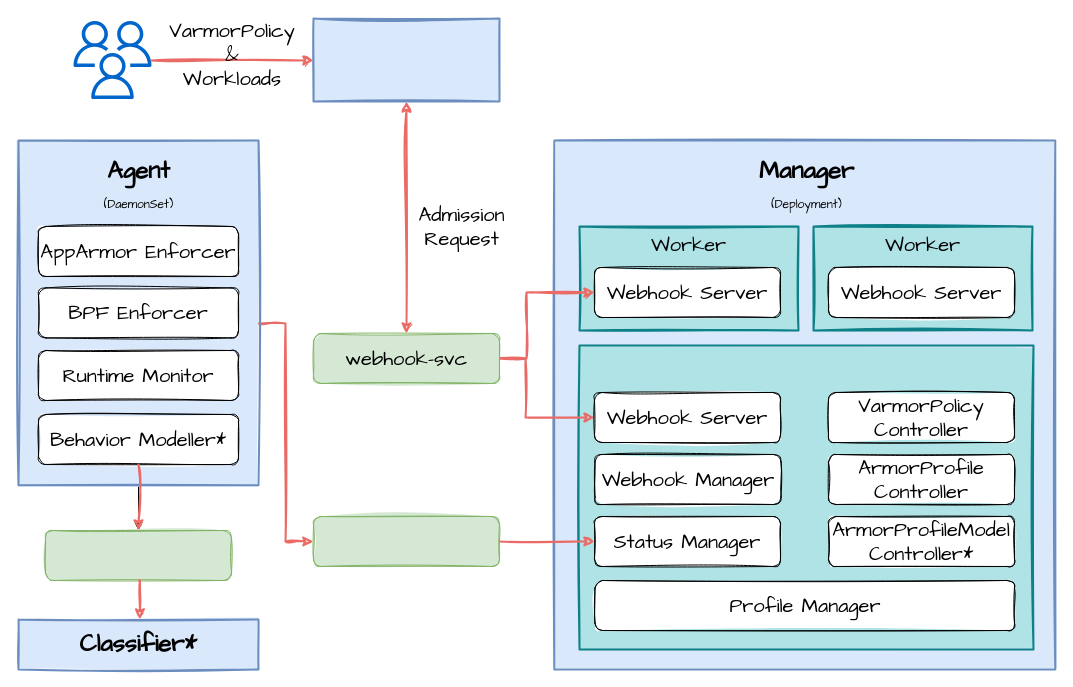
Some shapes in this 1073 by 687 pixel diagram are drawn without their labels. Each missing label, with the box of its shape:
API Server: (312, 17, 500, 102)
classifier-svc*: (44, 530, 232, 580)
Leader: (578, 344, 1034, 650)
status-svc: (312, 516, 500, 566)
